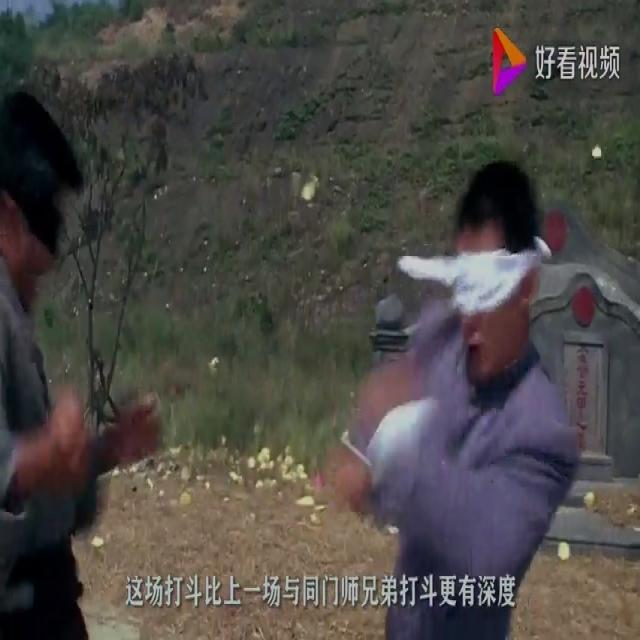fight: (0, 80, 620, 638)
